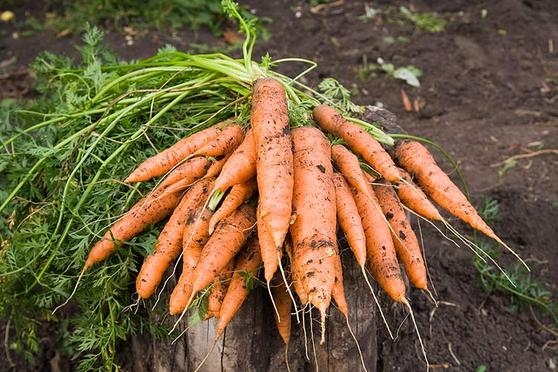carrot: (287, 125, 342, 321), (250, 83, 298, 258)
